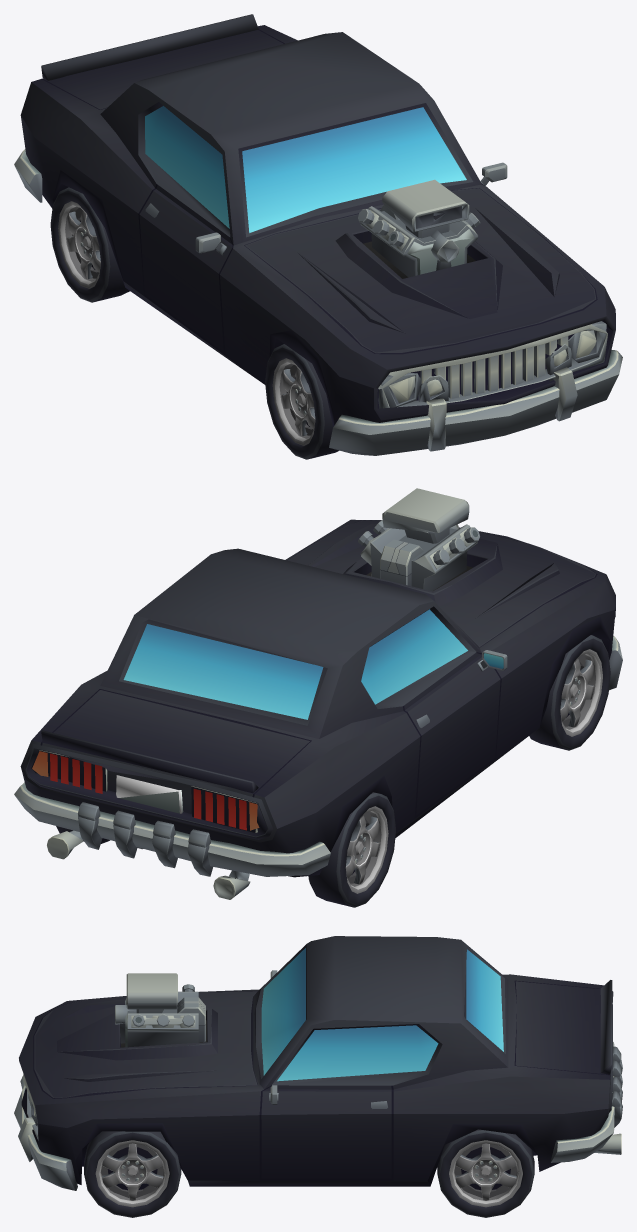
Rendered from hero-72.glb.
The picture shows the model from 3 angles, top to bottom: view 1: azimuth 30°, elevation 25°; view 2: azimuth 150°, elevation 25°; view 3: azimuth 270°, elevation 25°; orthographic projection. The views are drawn at different scales.
Visible parts, largest first — view 1: Plane.127, Mister Beef_FrontRightWheel.003, Mister Beef_RearRightWheel.003; view 2: Plane.127, Mister Beef_RearRightWheel.003, Mister Beef_FrontRightWheel.003; view 3: Plane.127, Mister Beef_FrontLeftWheel.003, Mister Beef_RearLeftWheel.003.
Boxes of the visible parts, left/top/right/bottom form: Plane.127: left=14, top=14, right=622, bottom=455; Mister Beef_FrontRightWheel.003: left=265, top=344, right=338, bottom=459; Mister Beef_RearRightWheel.003: left=50, top=187, right=129, bottom=302; Plane.127: left=14, top=488, right=622, bottom=899; Mister Beef_RearRightWheel.003: left=308, top=792, right=395, bottom=907; Mister Beef_FrontRightWheel.003: left=529, top=635, right=610, bottom=750; Plane.127: left=14, top=936, right=622, bottom=1190; Mister Beef_FrontLeftWheel.003: left=84, top=1131, right=181, bottom=1217; Mister Beef_RearLeftWheel.003: left=437, top=1129, right=534, bottom=1217.
Size of the model in its own units: 2.38 by 1.68 by 4.94.
1 material, 1 textured.
